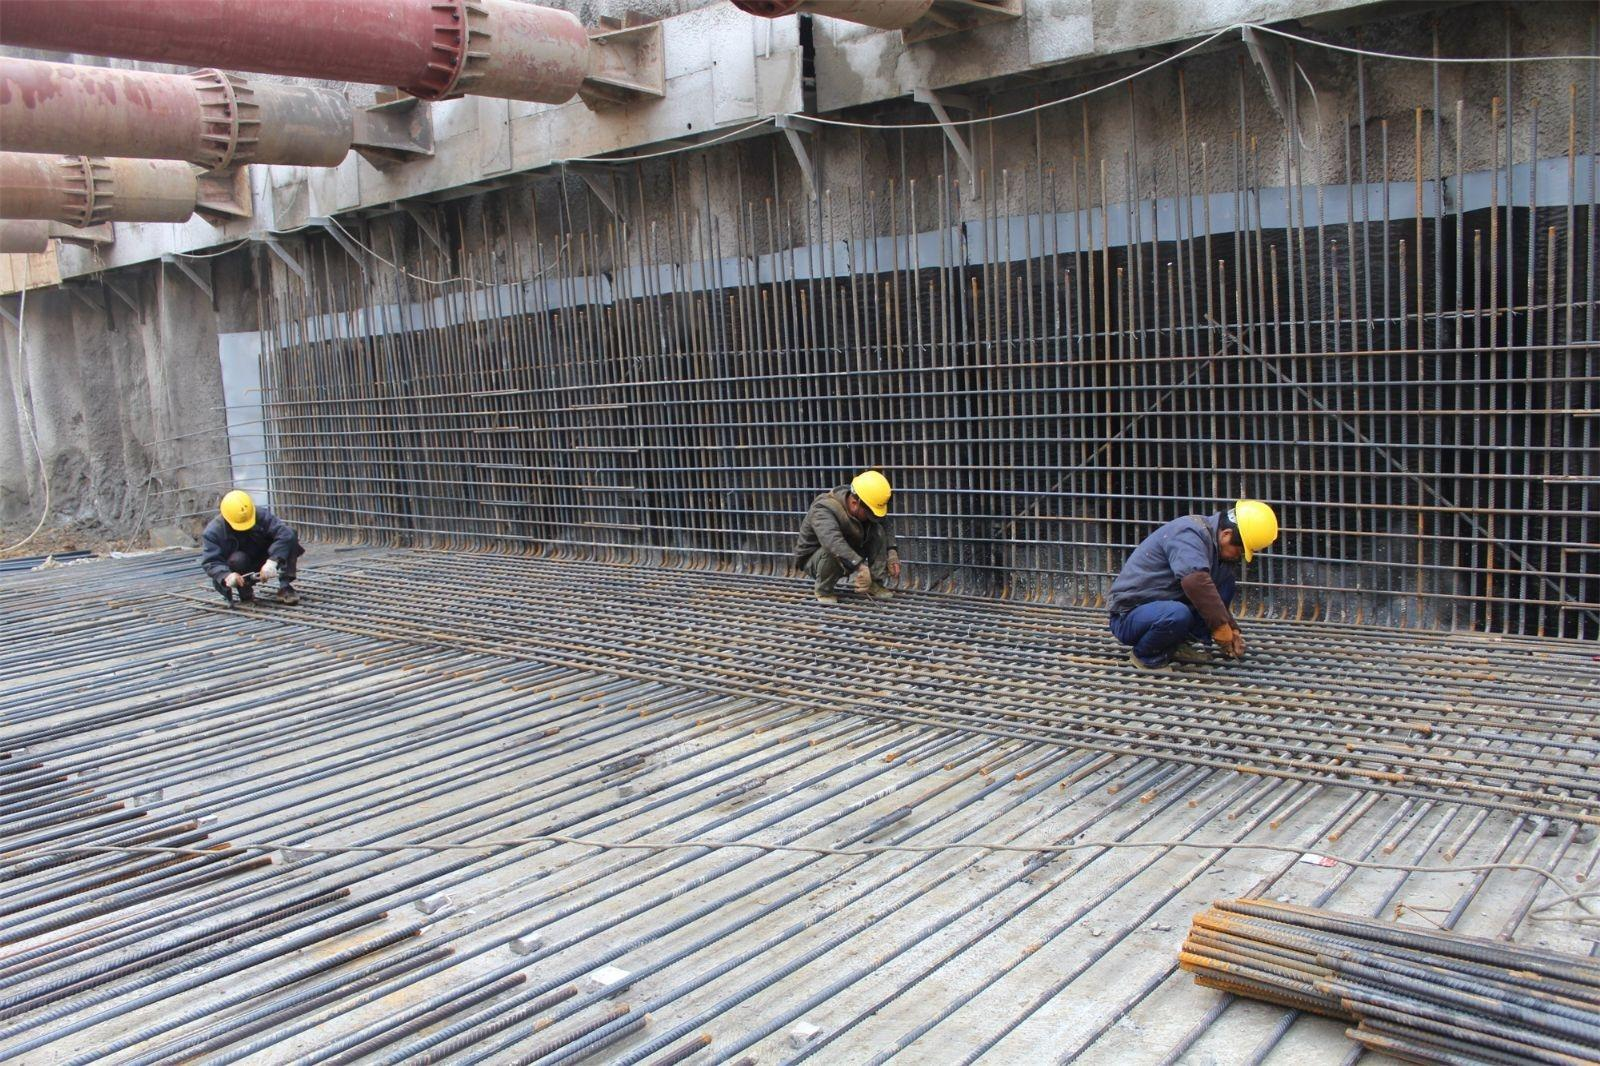helmet: (1232, 490, 1280, 562), (846, 464, 902, 521), (204, 485, 263, 535)
person: (1105, 495, 1288, 672), (781, 463, 909, 612), (193, 481, 315, 617)
